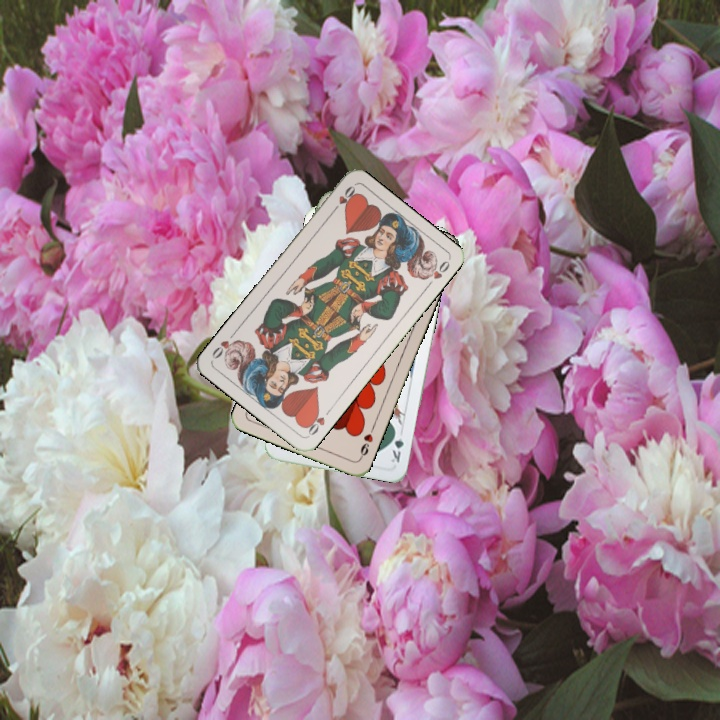GK: (387, 425, 406, 465)
H9: (356, 423, 377, 462)
HO: (301, 405, 334, 439), (327, 181, 358, 216)
